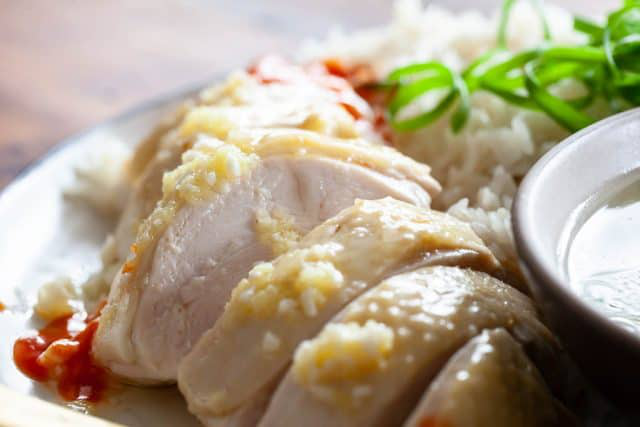Steamed Chicken Rice: (104, 11, 528, 424)
